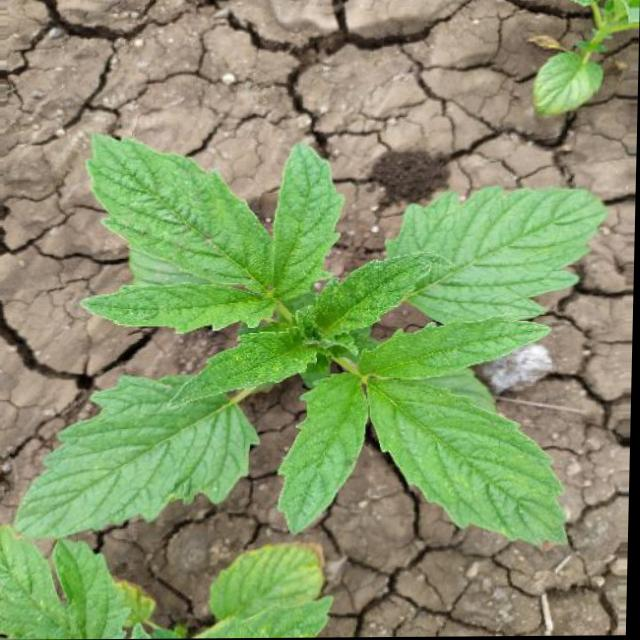crop: (56, 121, 588, 567)
